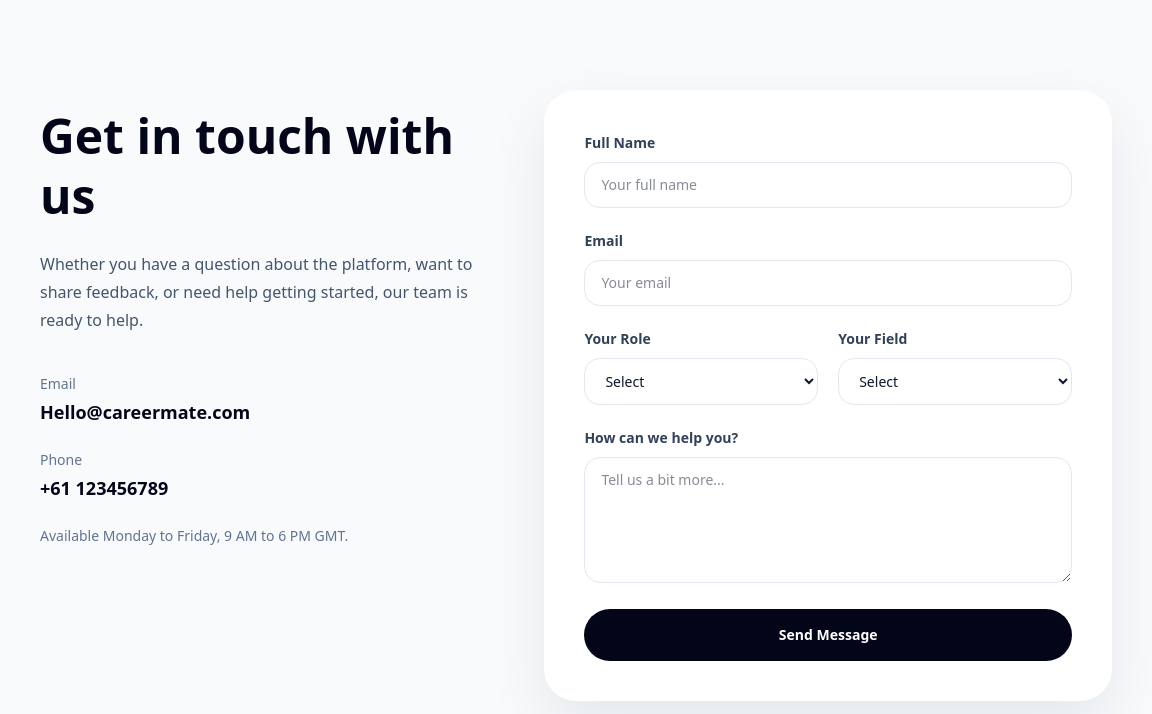
Contact form › shows required errors when submitting empty form
Click the button "Send Message". click: x=828, y=635
box: [584,609,1072,661]
(page scrolled)
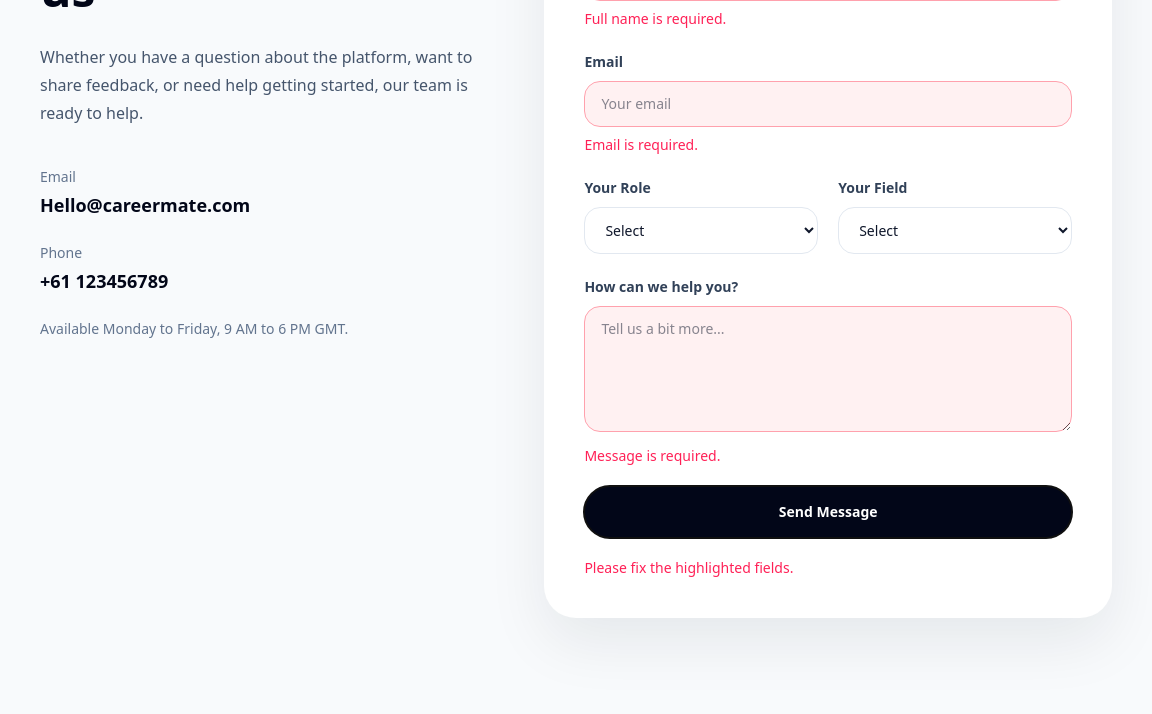
expect the text "Full name is required." is shown: met, box [584,9,726,28]
expect the text "Email is required." is shown: met, box [584,135,698,154]
expect the text "Message is required." is shown: met, box [584,446,720,465]
